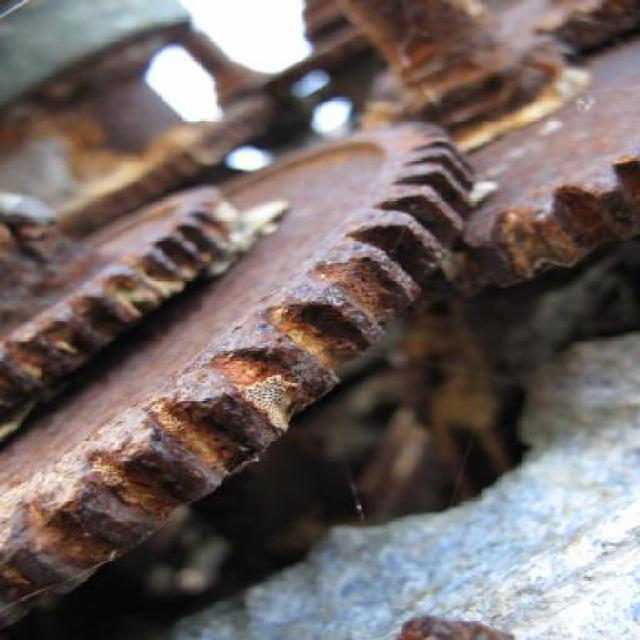corrosion: (0, 128, 480, 634)
